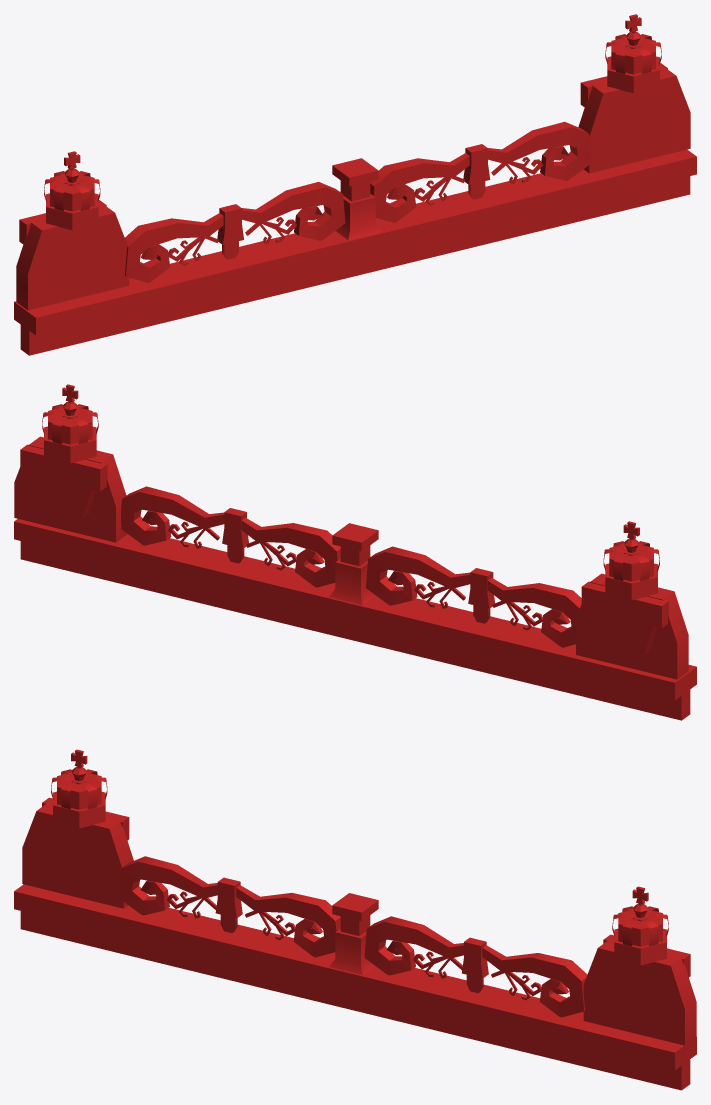
The model's file is palace_roof_top_statue_A.fbx.
3 renders of one model, top to bottom at view 1: azimuth 30°, elevation 25°; view 2: azimuth 150°, elevation 25°; view 3: azimuth 330°, elevation 25°, orthographic.
Visible parts, largest first — view 1: roof_top_statue_A; view 2: roof_top_statue_A; view 3: roof_top_statue_A.
Part boxes in pixels (x1=…): roof_top_statue_A: x1=14, y1=14, x2=696, y2=355; roof_top_statue_A: x1=14, y1=384, x2=696, y2=720; roof_top_statue_A: x1=14, y1=749, x2=696, y2=1090.
Bounding box in the file's own units: 401 × 107 × 29.99.
